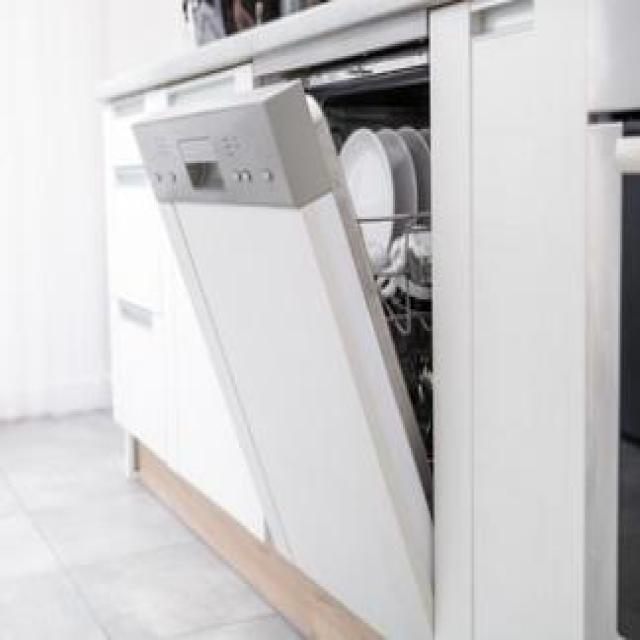dishwasher: (132, 37, 427, 638)
